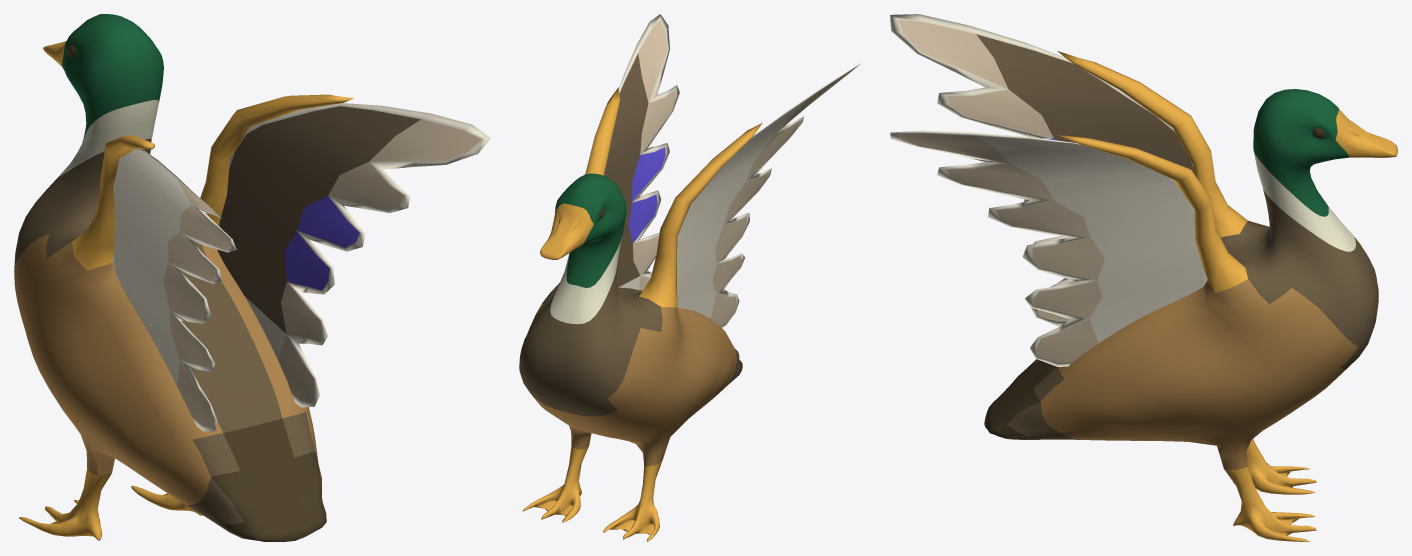
Rendered from duck2.fbx.
3 renders of one model, left to right at view 1: azimuth 30°, elevation 25°; view 2: azimuth 150°, elevation 25°; view 3: azimuth 270°, elevation 25°, orthographic. The views are drawn at different scales.
Visible parts, largest first — view 1: Plane, Plane.001; view 2: Plane, Plane.001; view 3: Plane, Plane.001.
Part boxes in pixels (box(x1,y1,x2,y2)): Plane: box(14, 14, 353, 541); Plane.001: box(113, 103, 490, 431); Plane: box(519, 87, 762, 541); Plane.001: box(604, 14, 860, 328); Plane: box(984, 51, 1397, 541); Plane.001: box(890, 14, 1207, 366).
Size of the model in its own units: 27 by 46.55 by 49.24.
